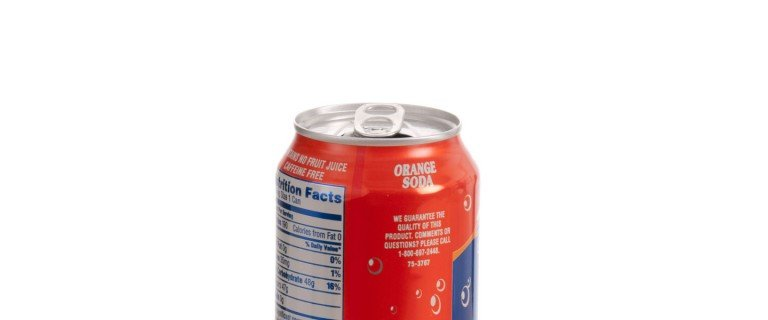can: (275, 102, 481, 320)
